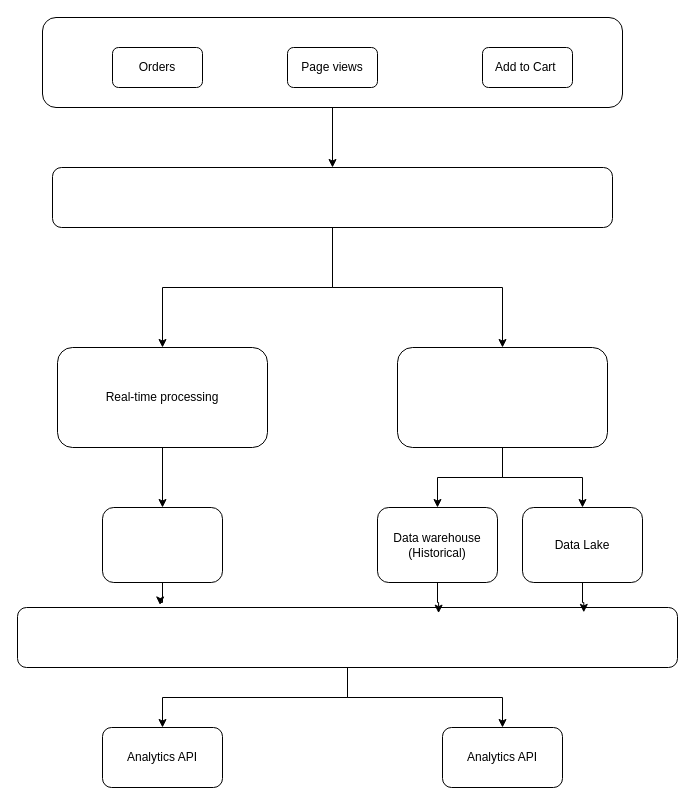
Image size: 695x805. Some labels were removed from this diagram. Each missing label, with the centre of its shape:
"Batch processing" belongs at (x=502, y=397).
"Demand forecasting model (XGBoost)" belongs at (x=347, y=637).
"Ingestion layer" belongs at (x=332, y=197).
"NoSQL database" belongs at (x=162, y=544).
